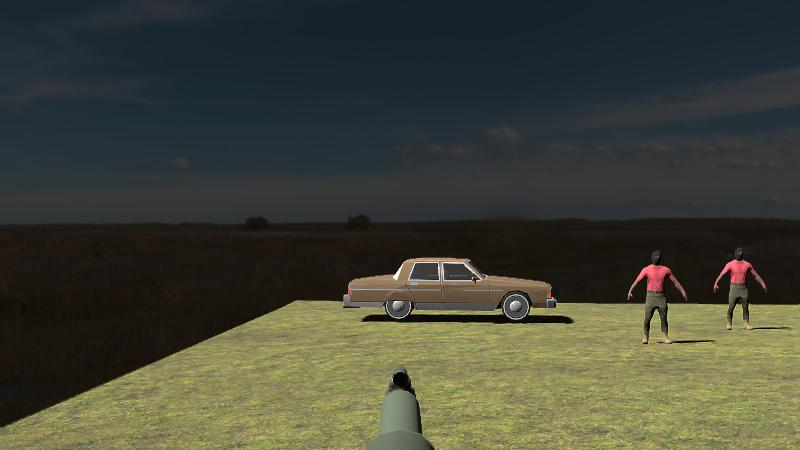Human: (628, 249, 687, 345), (714, 247, 766, 331)
car: (344, 255, 559, 323)
